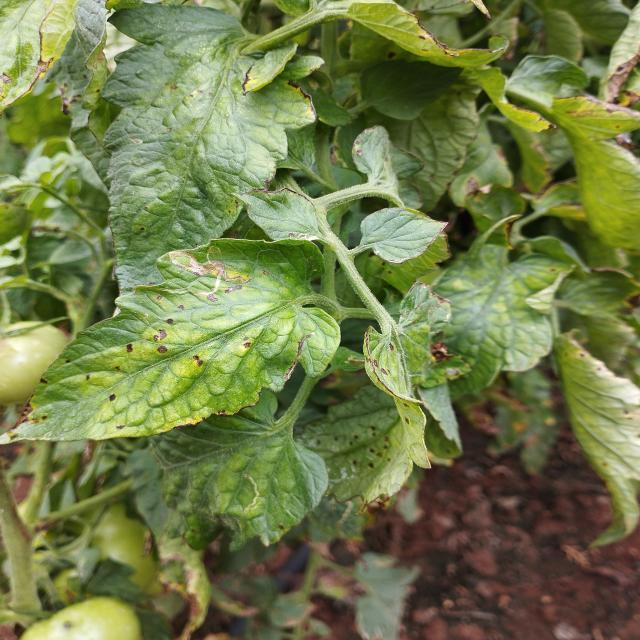Tomato mosaic virus leaf: (0, 298, 299, 452), (358, 323, 466, 474)
